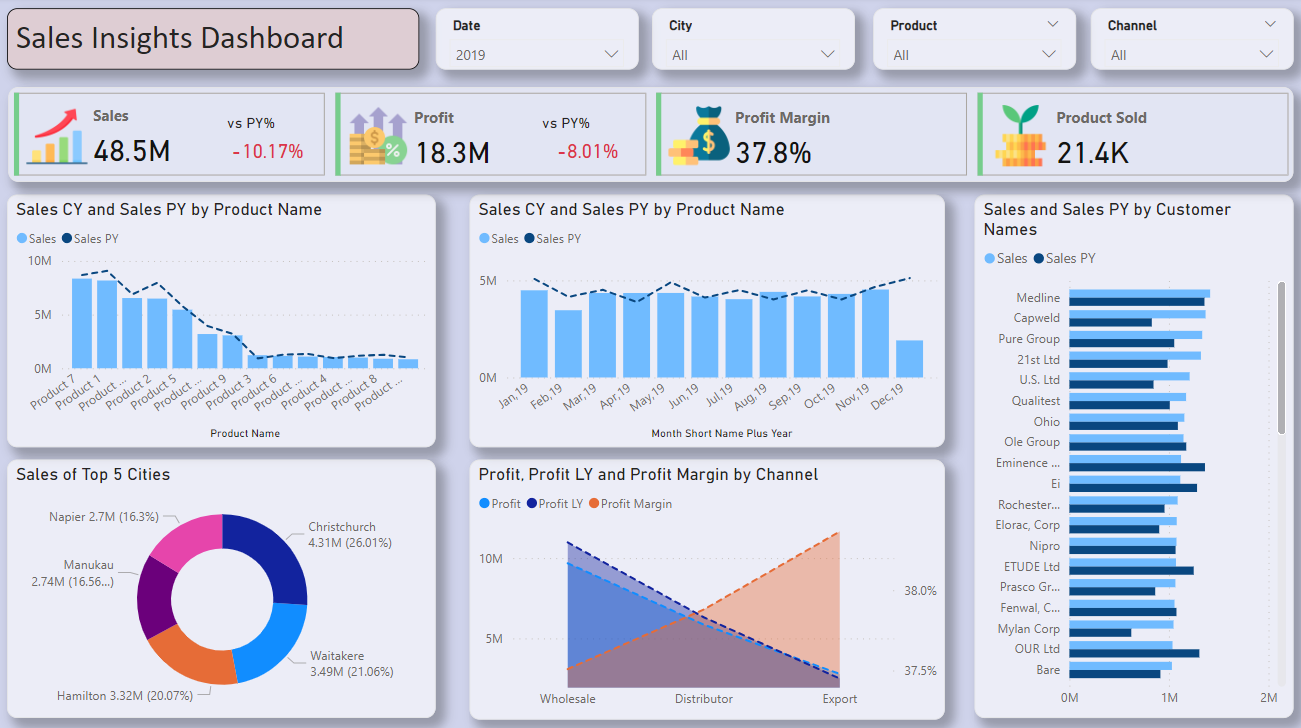

This screenshot's page, from the dashboard's own definition file:
{"tool":"powerbi","page":{"name":"Sales_Dashboard","canvas":[1280,720],"ordinal":0},"visuals":[{"type":"textbox","box":[9.8,11,403.4,59.9],"z":0},{"type":"slicer","title":"Date","fields":{"Values":["DateTable.Year","DateTable.Month Short Name Plus Year"]},"box":[429.1,11,198,59.9],"z":1000},{"type":"slicer","title":"Date","fields":{"Values":["Regions_Table.City"]},"box":[640.5,11,198,59.9],"z":2000},{"type":"slicer","title":"Date","fields":{"Values":["Products_Data.Product Name"]},"box":[856.9,11,198,59.9],"z":3000},{"type":"slicer","title":"Date","fields":{"Values":["Sales_Data.Channel"]},"box":[1069.6,11,198,59.9],"z":4000},{"type":"lineClusteredColumnComboChart","title":"Sales CY and Sales PY by Product Name","fields":{"Category":["Products_Data.Product Name"],"Y":["Measure Table.Sales"],"Y2":["Measure Table.Sales PY"]},"box":[9.8,193.1,419.3,246.9],"z":5000},{"type":"lineClusteredColumnComboChart","title":"Sales CY and Sales PY by Product Name","fields":{"Y":["Measure Table.Sales"],"Category":["DateTable.Month Short Name Plus Year"],"Y2":["Measure Table.Sales PY"]},"box":[462.1,193.1,464.5,246.9],"z":6000},{"type":"donutChart","title":"Sales of Top 5 Cities","fields":{"Category":["Regions_Table.City"],"Y":["Measure Table.Sales"]},"box":[9.8,452.3,419.3,253],"z":7000},{"type":"areaChart","fields":{"Category":["Sales_Data.Channel"],"Y":["Measure Table.Profit","Measure Table.Profit LY"],"Y2":["Measure Table.Profit Margin"]},"box":[462.1,452.3,464.5,254.3],"z":8000},{"type":"clusteredBarChart","fields":{"Category":["Customer_Data.Customer Names"],"Y":["Measure Table.Sales","Measure Table.Sales PY"]},"box":[955.9,193.1,311.7,512.2],"z":9000},{"type":"cardVisual","fields":{"Data":["Measure Table.Sales","Measure Table.Profit","Measure Table.Profit Margin","Measure Table.Product Sold"]},"box":[11.5,88,1257,92.9],"z":10000},{"type":"card","title":"vs PY%","fields":{"Values":["Measure Table.Sales vs PY %"]},"box":[220,114.9,89.2,56.2],"z":11000},{"type":"card","title":"vs PY%","fields":{"Values":["Measure Table.Profit vs LY %"]},"box":[528.1,114.9,99,56.2],"z":12000}]}

Visuals, with their boxes in screenshot pixels (x1, y1, x2, y2), scaled from the page's 1280x720 canvas onto the 1301x728 screenshot:
textbox: x1=10, y1=11, x2=420, y2=72
"Date" slicer: x1=436, y1=11, x2=637, y2=72
"Date" slicer: x1=651, y1=11, x2=852, y2=72
"Date" slicer: x1=871, y1=11, x2=1072, y2=72
"Date" slicer: x1=1087, y1=11, x2=1288, y2=72
"Sales CY and Sales PY by Product Name" lineClusteredColumnComboChart: x1=10, y1=195, x2=436, y2=445
"Sales CY and Sales PY by Product Name" lineClusteredColumnComboChart: x1=470, y1=195, x2=942, y2=445
"Sales of Top 5 Cities" donutChart: x1=10, y1=457, x2=436, y2=713
areaChart - Sales_Data.Channel x Measure Table.Profit: x1=470, y1=457, x2=942, y2=714
clusteredBarChart - Customer_Data.Customer Names x Measure Table.Sales: x1=972, y1=195, x2=1288, y2=713
cardVisual - Measure Table.Sales x Measure Table.Profit: x1=12, y1=89, x2=1289, y2=183
"vs PY%" card: x1=224, y1=116, x2=314, y2=173
"vs PY%" card: x1=537, y1=116, x2=637, y2=173
